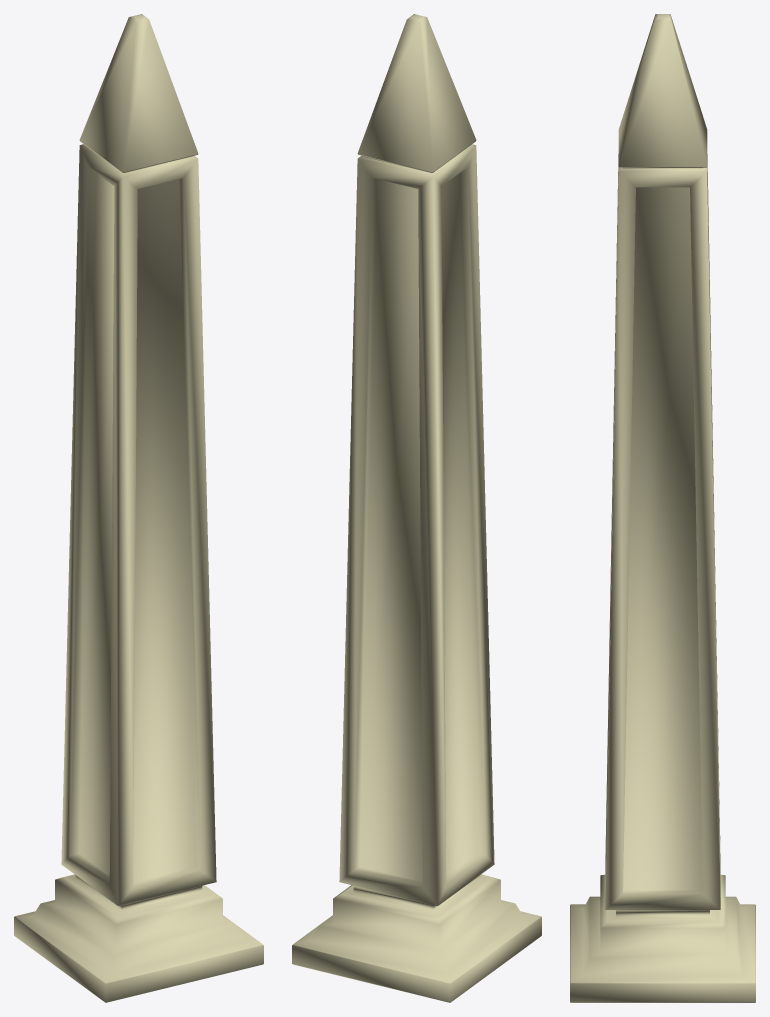
Rendered from Obelisk_01.FBX.
The picture shows the model from 3 angles, left to right: view 1: azimuth 30°, elevation 25°; view 2: azimuth 150°, elevation 25°; view 3: azimuth 270°, elevation 25°; orthographic projection.
Parts seen in each view (by area): view 1: Box001; view 2: Box001; view 3: Box001.
Boxes of the visible parts, x1,y1,x2,y2 form: Box001: [14, 14, 263, 1002]; Box001: [292, 14, 541, 1002]; Box001: [570, 14, 755, 1002].
Bounding box in the file's own units: 128 × 723 × 128.
